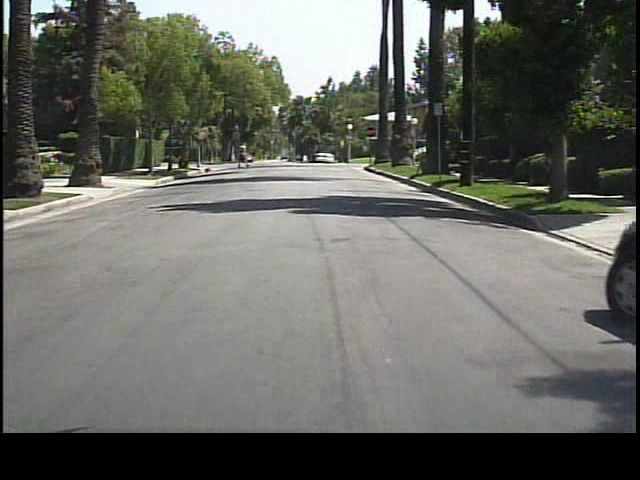person: (235, 139, 251, 171)
